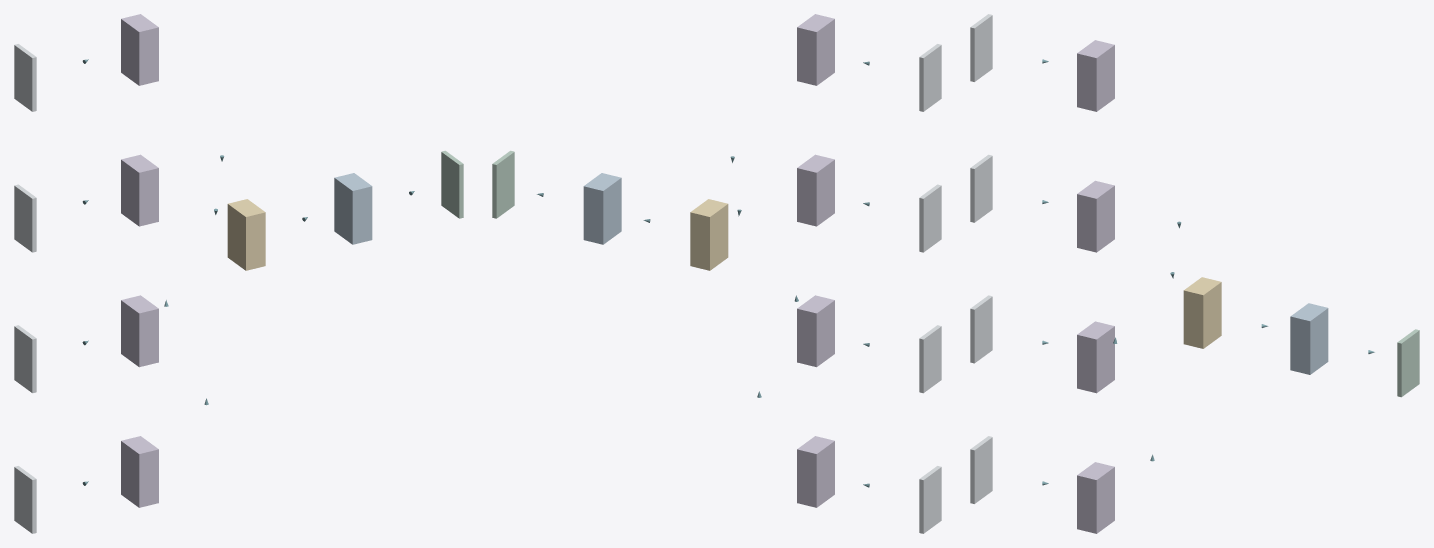
Rendered from segformer-mlp.glb.
3 renders of one model, left to right at view 1: azimuth 30°, elevation 25°; view 2: azimuth 150°, elevation 25°; view 3: azimuth 330°, elevation 25°, orthographic.
Parts seen in each view (by area): view 1: Linear embed · + resize to /4 (×4), 1×1 fuse, Concatenate, Feature F2, Feature F1, Feature F3, Class prediction, Feature F4; view 2: Linear embed · + resize to /4 (×4), 1×1 fuse, Concatenate, Feature F2, Feature F1, Feature F3, Class prediction, Feature F4; view 3: Linear embed · + resize to /4 (×4), 1×1 fuse, Concatenate, Feature F3, Feature F2, Feature F4, Class prediction, Feature F1.
Boxes of the visible parts, bbox=[...] form: Linear embed · + resize to /4 (×4): bbox=[121, 14, 158, 507]; 1×1 fuse: bbox=[334, 173, 372, 244]; Concatenate: bbox=[227, 199, 265, 270]; Feature F2: bbox=[14, 184, 36, 252]; Feature F1: bbox=[14, 44, 36, 111]; Feature F3: bbox=[14, 325, 36, 393]; Class prediction: bbox=[441, 150, 463, 218]; Feature F4: bbox=[14, 466, 36, 533]; Linear embed · + resize to /4 (×4): bbox=[797, 14, 834, 507]; 1×1 fuse: bbox=[583, 173, 621, 244]; Concatenate: bbox=[690, 199, 728, 270]; Feature F2: bbox=[919, 184, 941, 252]; Feature F1: bbox=[919, 44, 941, 111]; Feature F3: bbox=[919, 325, 941, 393]; Class prediction: bbox=[492, 150, 514, 218]; Feature F4: bbox=[919, 466, 941, 533]; Linear embed · + resize to /4 (×4): bbox=[1077, 40, 1114, 533]; 1×1 fuse: bbox=[1290, 303, 1328, 374]; Concatenate: bbox=[1183, 277, 1221, 348]; Feature F3: bbox=[970, 295, 992, 363]; Feature F2: bbox=[970, 154, 992, 222]; Feature F4: bbox=[970, 436, 992, 503]; Class prediction: bbox=[1397, 329, 1419, 397]; Feature F1: bbox=[970, 14, 992, 81].
Bounding box in the file's own units: 21.82 × 23 × 1.6.
